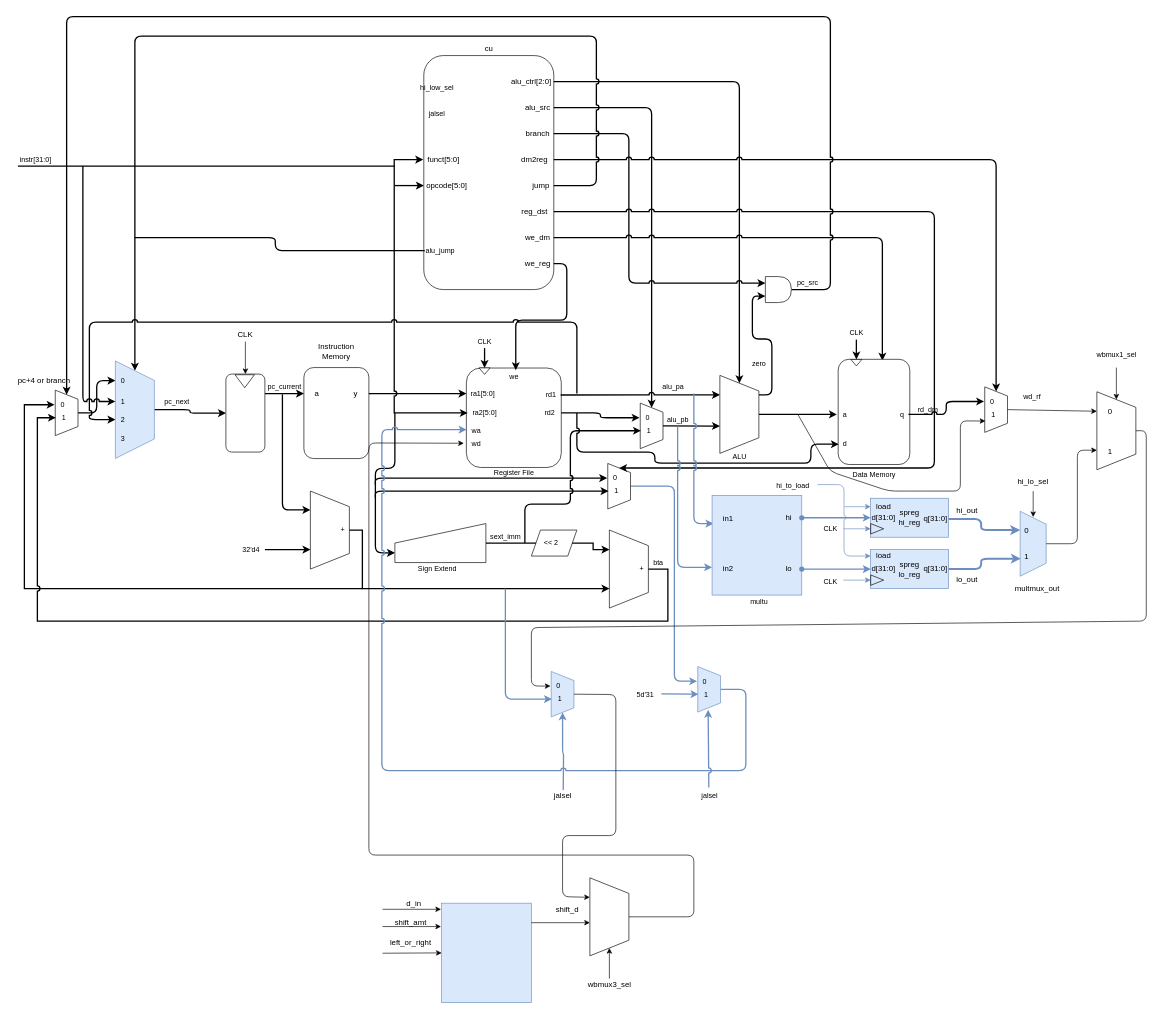
The diagram is 1163 pixels wide and 1014 high, and some of its shapes have lost their labels. Each missing label, with the centre of its shape:
"a[15:0]" belongs at [440,543].
"alu_out" belongs at [739,414].
"SHIFTER" belongs at [486,953].
